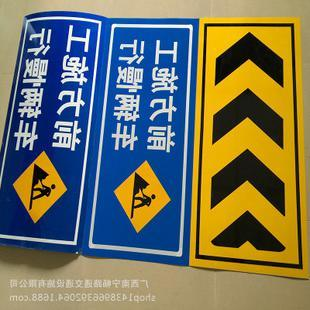sign: (190, 19, 306, 272), (90, 13, 189, 262), (1, 4, 97, 256)
